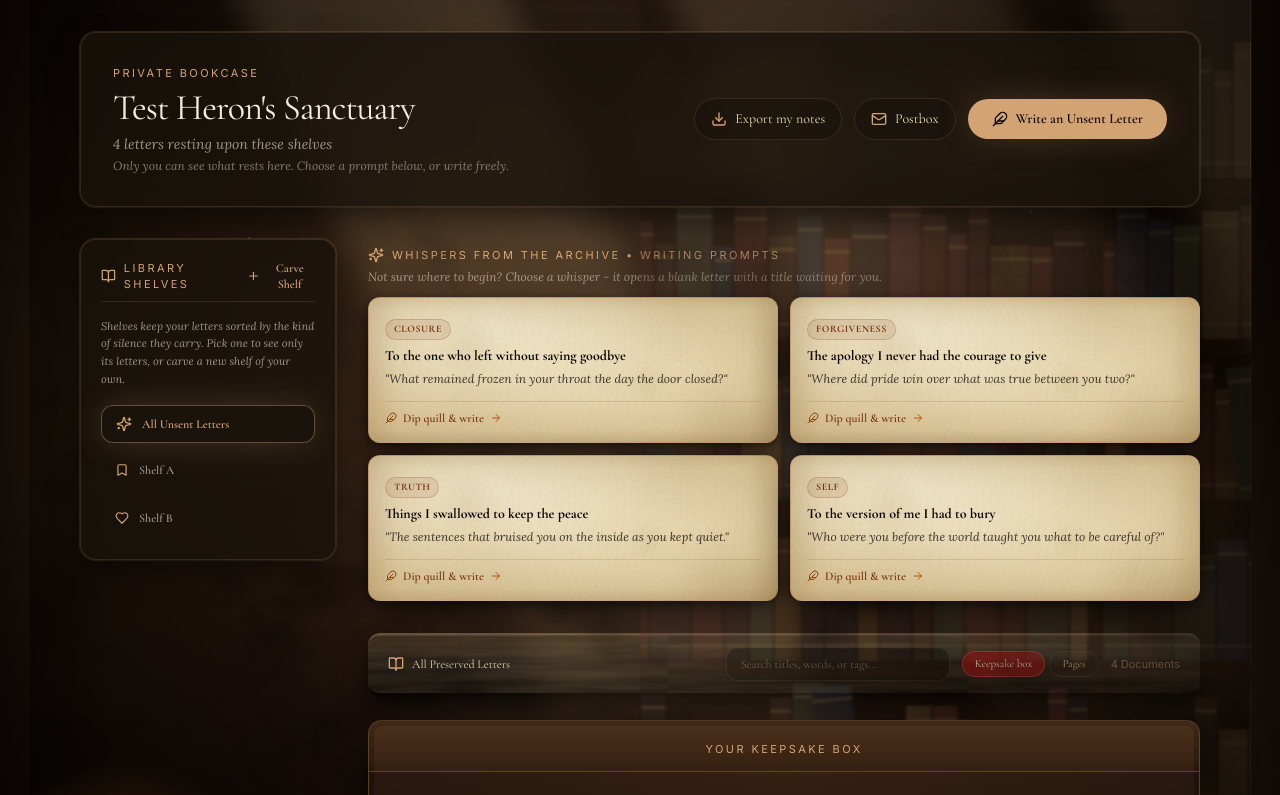
it: LibraryPage private note export (U8) › skips a locked note that was never unlocked and reports the skip count
Click the button "Export my notes". click: [768, 119]
box: [694, 98, 842, 140]
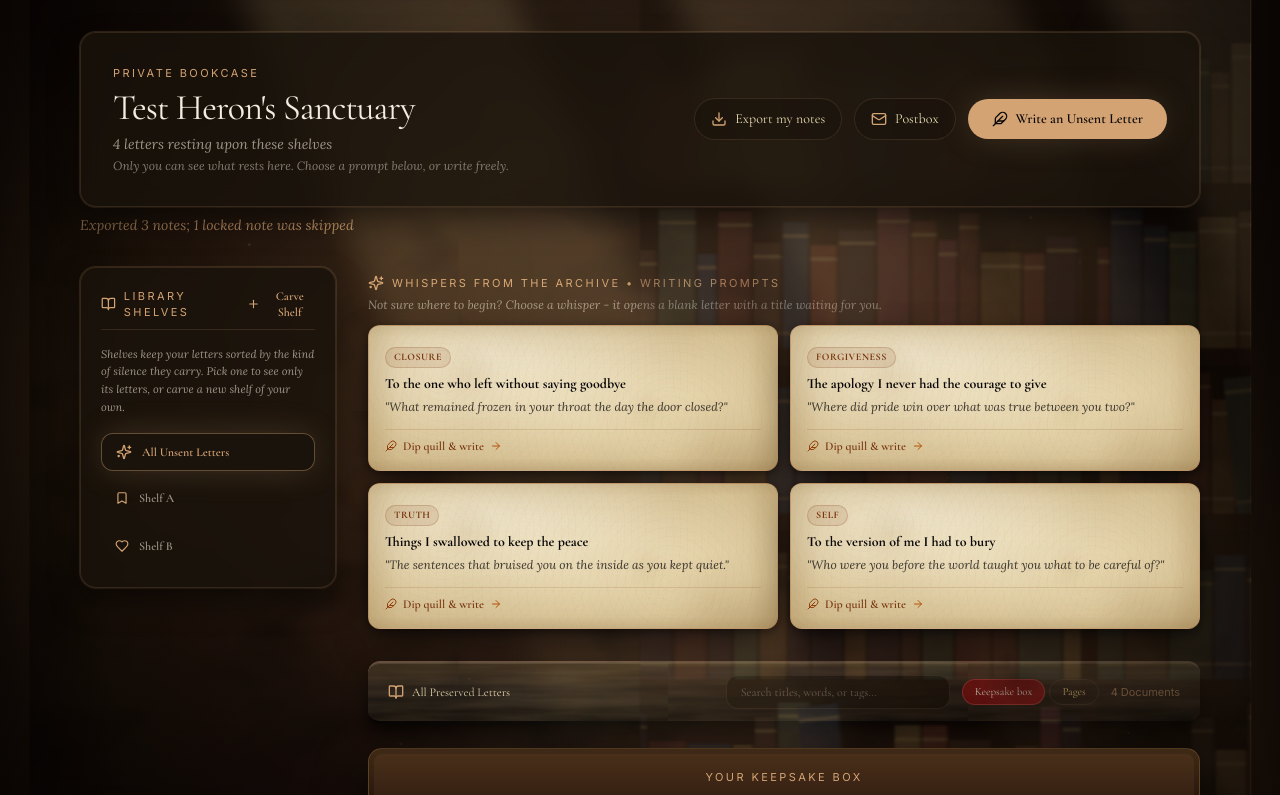
Check: the message reads "Exported 3 notes; 1 locked note was skipped", box [80, 216, 354, 234]
